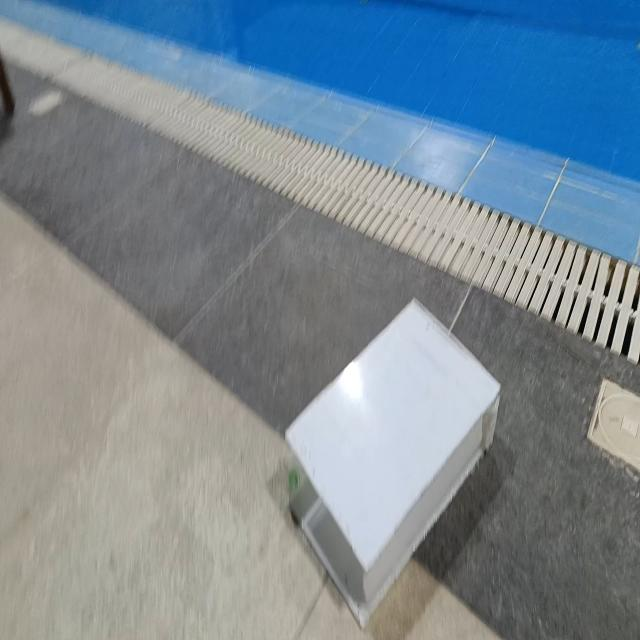Cuboid: (284, 295, 501, 628)
